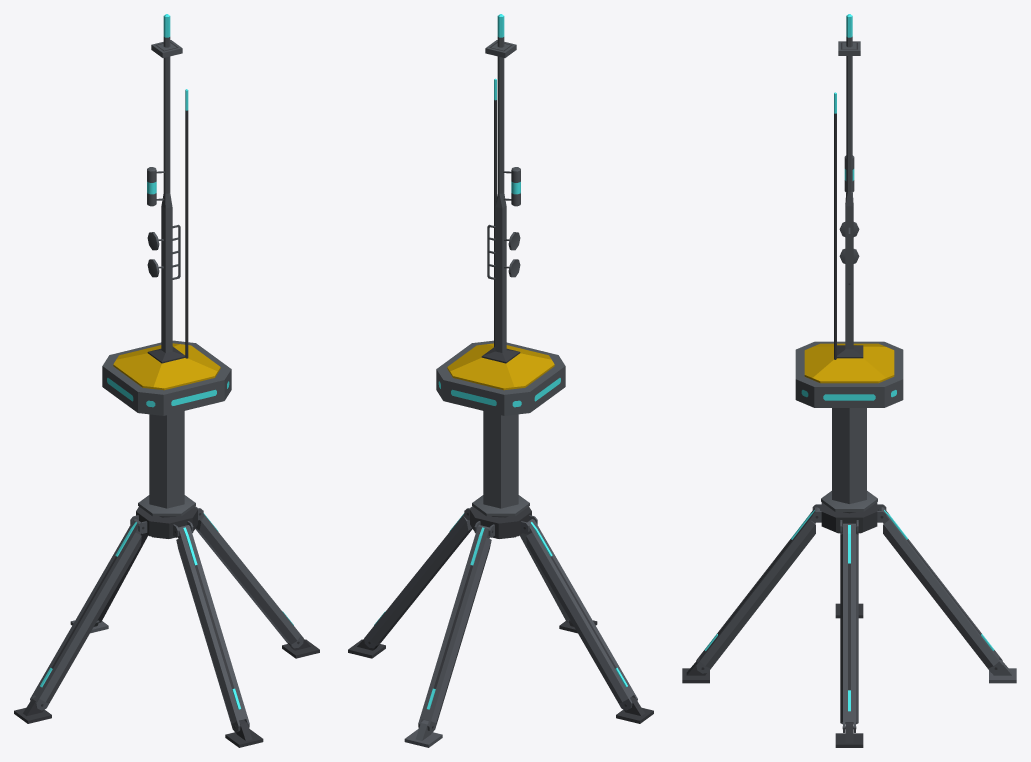
The model's file is SM_Props_Device_06.fbx.
3 renders of one model, left to right at view 1: azimuth 30°, elevation 25°; view 2: azimuth 150°, elevation 25°; view 3: azimuth 270°, elevation 25°, orthographic.
Parts seen in each view (by area): view 1: SM_Props_Device_06; view 2: SM_Props_Device_06; view 3: SM_Props_Device_06.
Boxes of the visible parts, left/top/right/bottom form: SM_Props_Device_06: left=14, top=14, right=319, bottom=747; SM_Props_Device_06: left=348, top=14, right=653, bottom=747; SM_Props_Device_06: left=682, top=14, right=1016, bottom=747.
Size of the model in its own units: 0.6399 by 1.4 by 0.6399.
